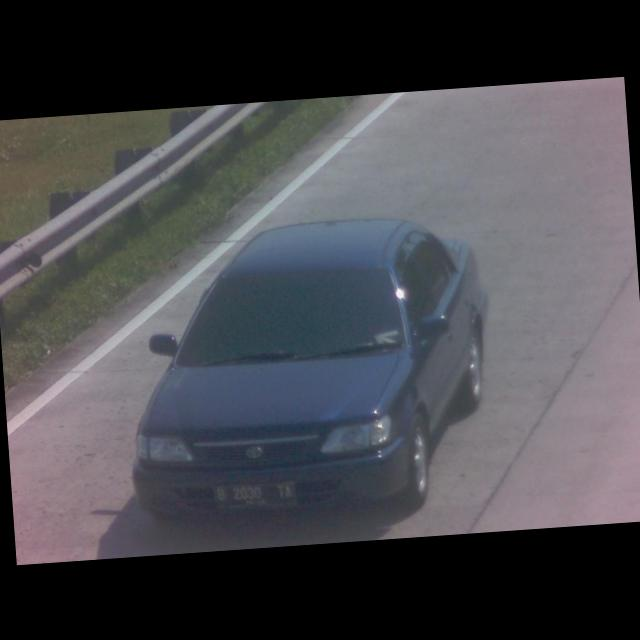plate: (210, 478, 296, 512)
